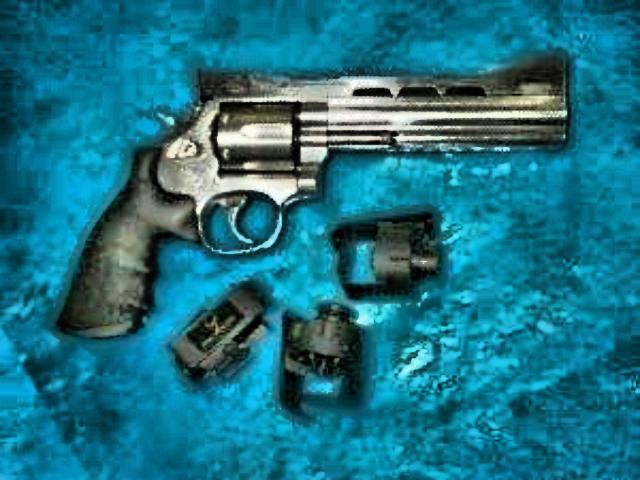pistol: (39, 49, 572, 343)
